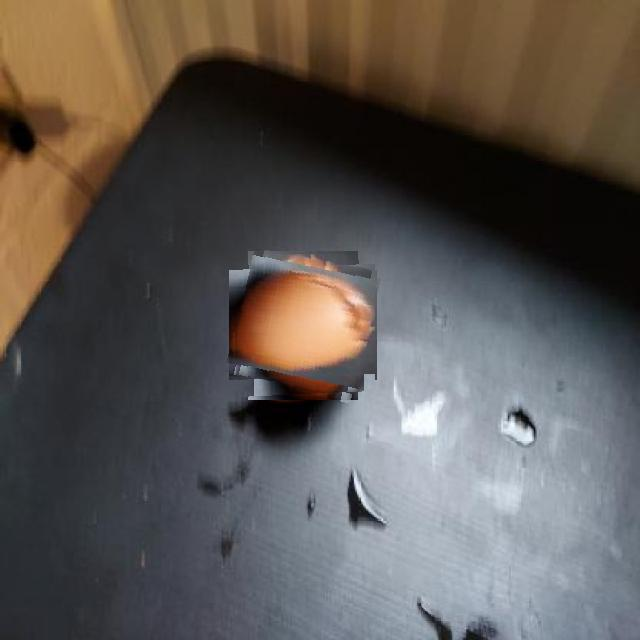biodegradable: (231, 254, 375, 397)
